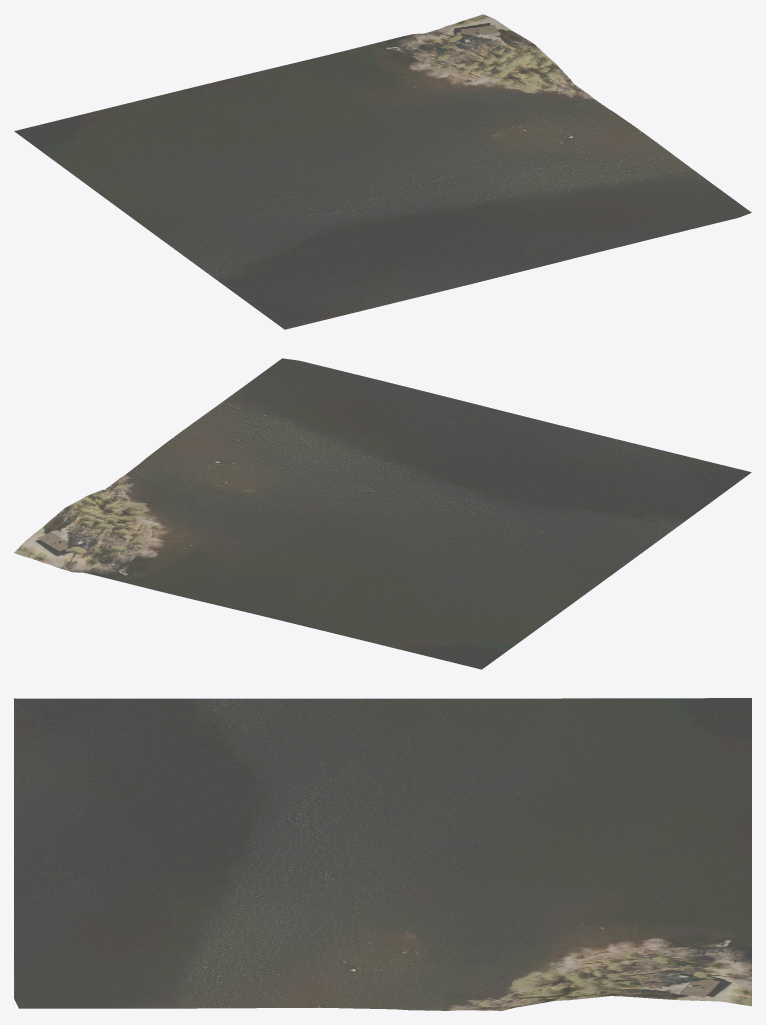
The model's file is CM_Terrain_24492506_6813650.fbx.
The picture shows the model from 3 angles, top to bottom: view 1: azimuth 30°, elevation 25°; view 2: azimuth 150°, elevation 25°; view 3: azimuth 270°, elevation 25°; orthographic projection. The views are drawn at different scales.
Parts seen in each view (by area): view 1: CM_Terrain_24492506_6813650_LOD0; view 2: CM_Terrain_24492506_6813650_LOD0; view 3: CM_Terrain_24492506_6813650_LOD0.
Part boxes in pixels (box(x1,y1,x2,y2)): CM_Terrain_24492506_6813650_LOD0: box(14, 14, 751, 329); CM_Terrain_24492506_6813650_LOD0: box(14, 358, 751, 669); CM_Terrain_24492506_6813650_LOD0: box(14, 698, 751, 1010).
Size of what is drawn, in the model's own units: 205 by 5.62 by 205.
